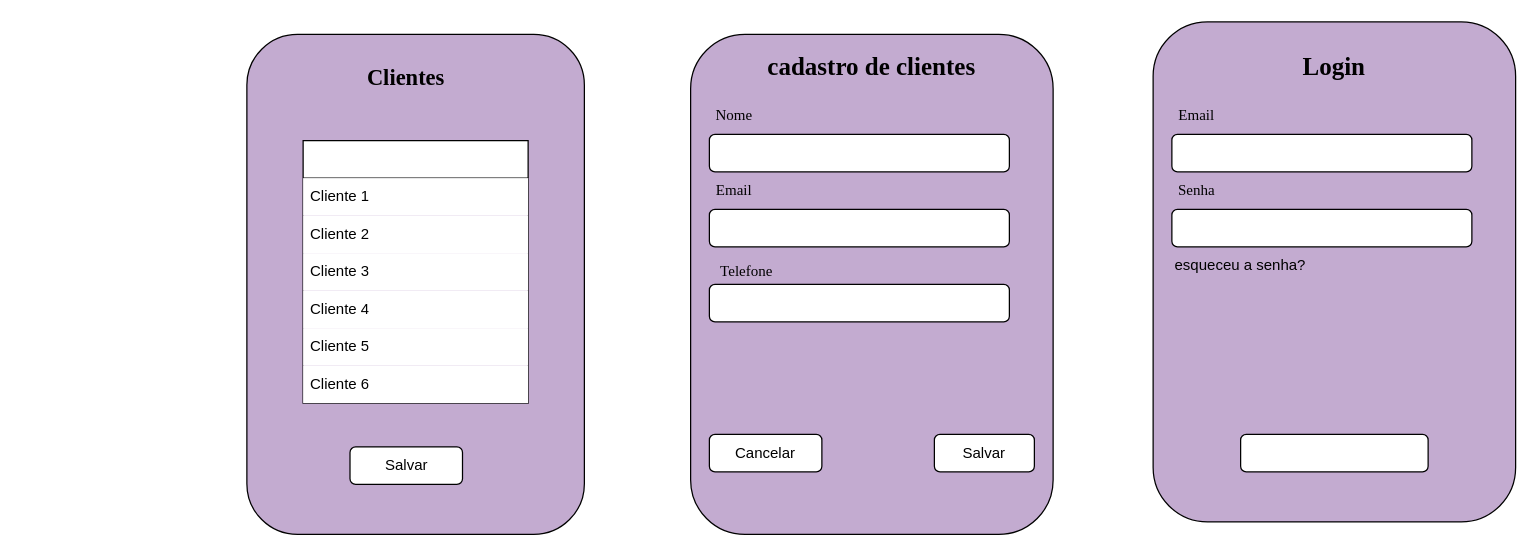
This 1538x556 diagram has some shape labels left out. Each missing label, with the box of its shape:
Entrar: (1239, 433, 1428, 472)
Lista: (302, 139, 528, 403)
